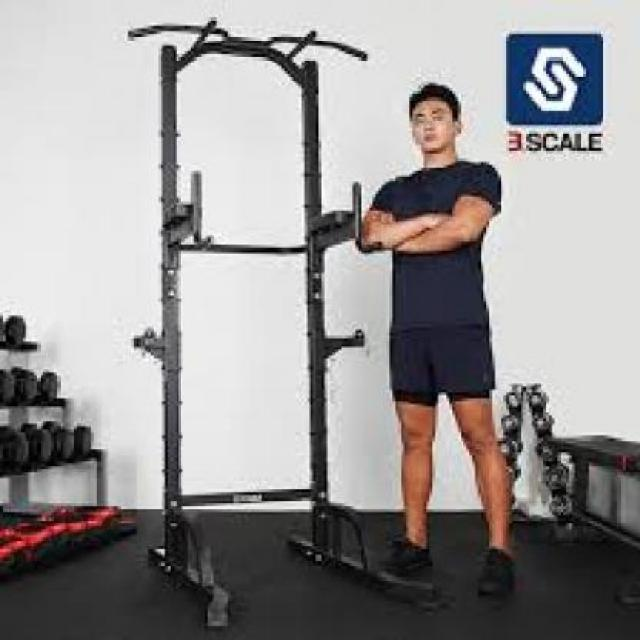chinning dipping: (129, 18, 369, 631)
